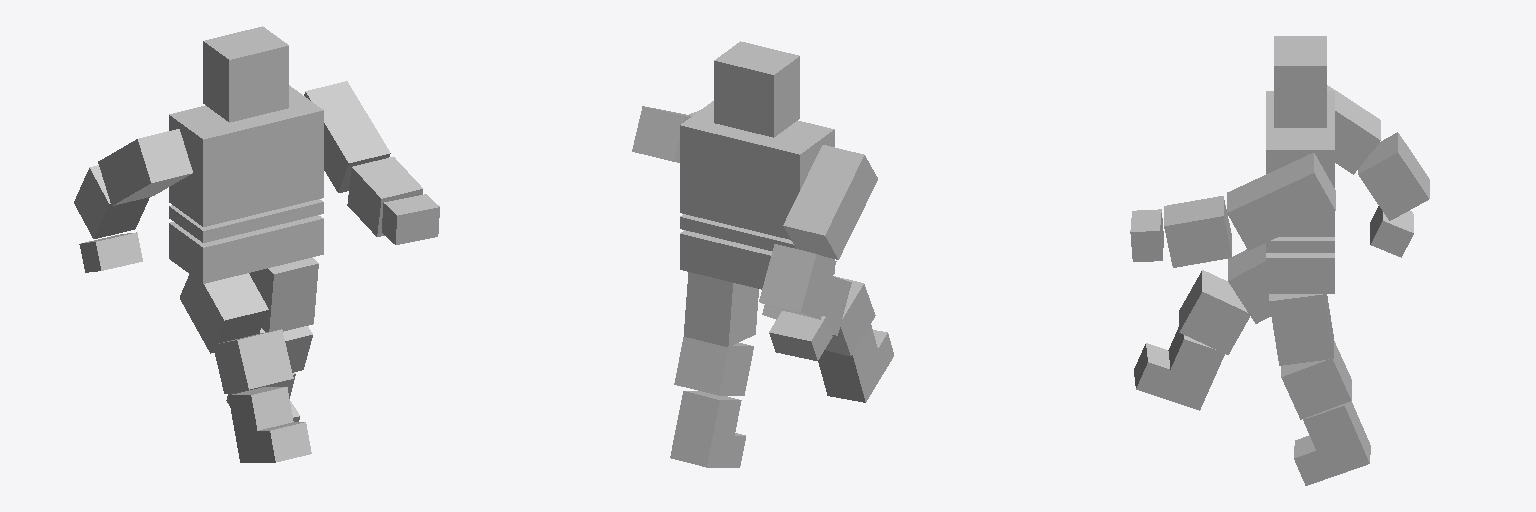
File: POne5.obj
3 views of the same model, side by side, from view 1: azimuth 30°, elevation 25°; view 2: azimuth 150°, elevation 25°; view 3: azimuth 270°, elevation 25° (orthographic).
Bounding box in the file's own units: 3.69 × 6.55 × 4.33.